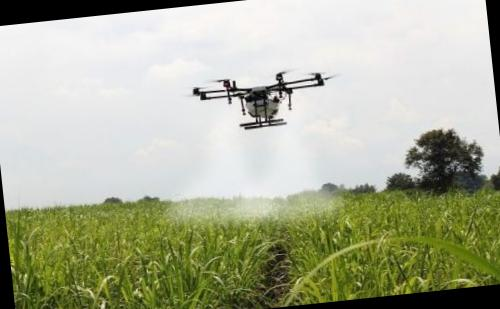drone: (179, 56, 346, 146)
